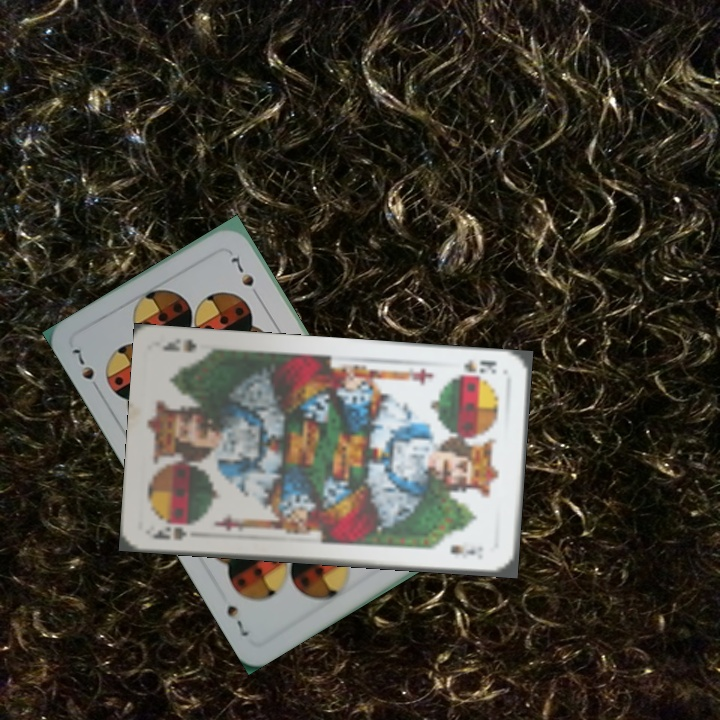S7: (68, 343, 104, 396)
SK: (148, 519, 198, 543), (460, 355, 500, 376)
